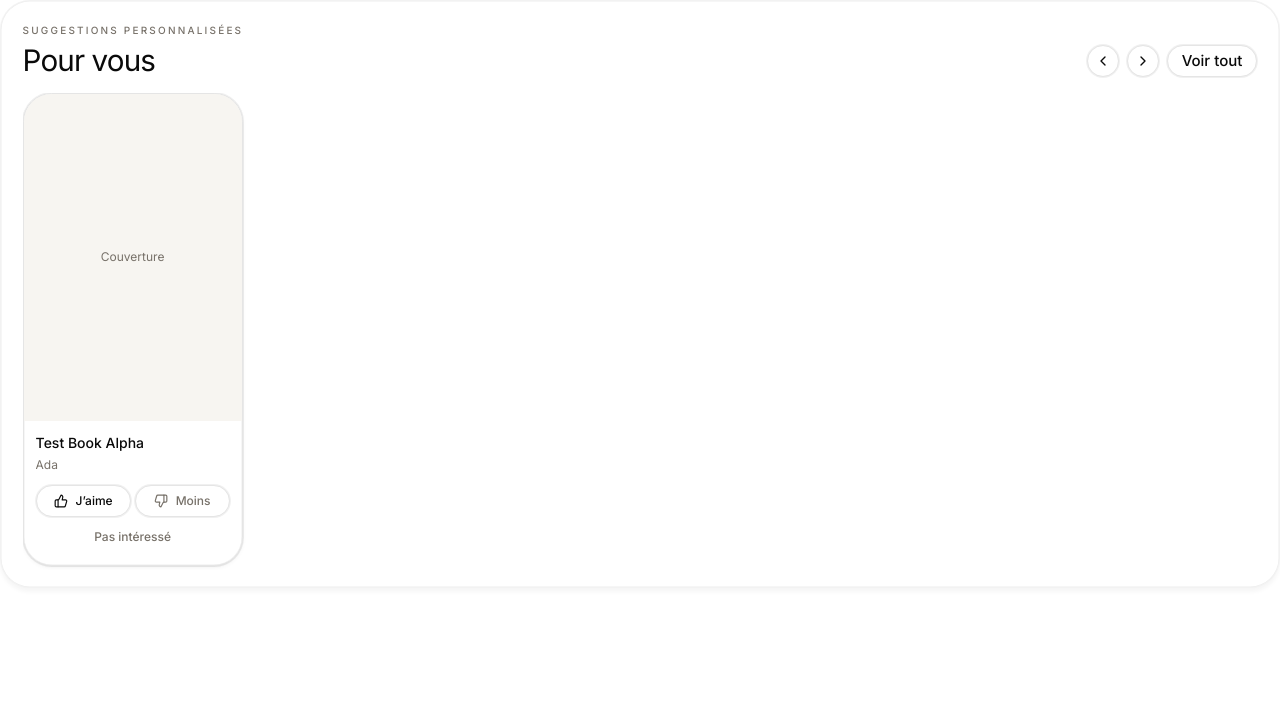
Test: RecommendationsCarousel › renders book title and dismiss removes the card
This screenshot has width=1280, height=720.
expect the text "Test Book Alpha" is shown: met, box [36, 434, 144, 451]
Click the button "Pas intéressé" at (133, 537), box [36, 521, 230, 553]
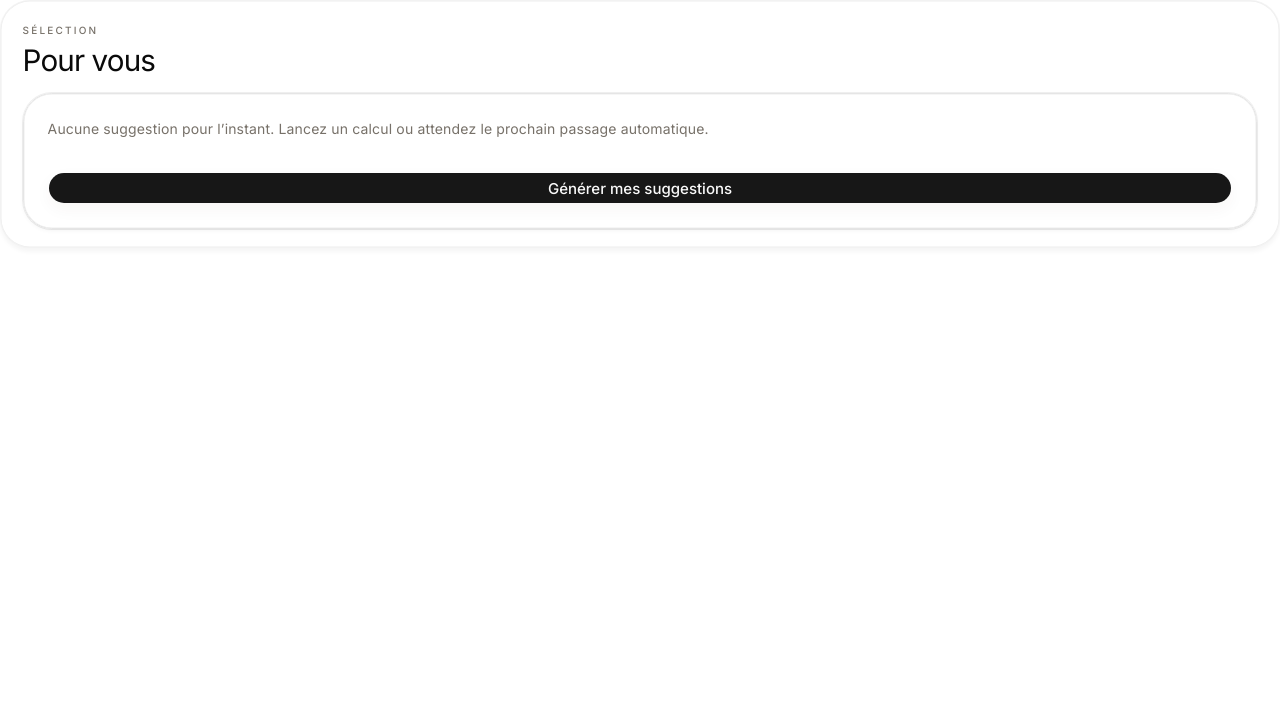
expect the link "Test Book Alpha" is gone: met
